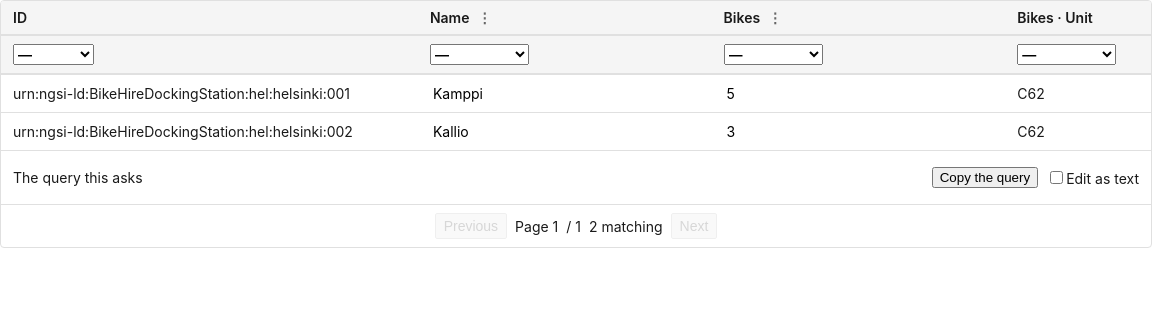
Test case: edit mode › discards every pending cell when the person asks
The width and height of the screenshot is (1152, 310).
Replace the text in the 1st number field showing "5" with "4" at (858, 94), box [724,83,993,104]
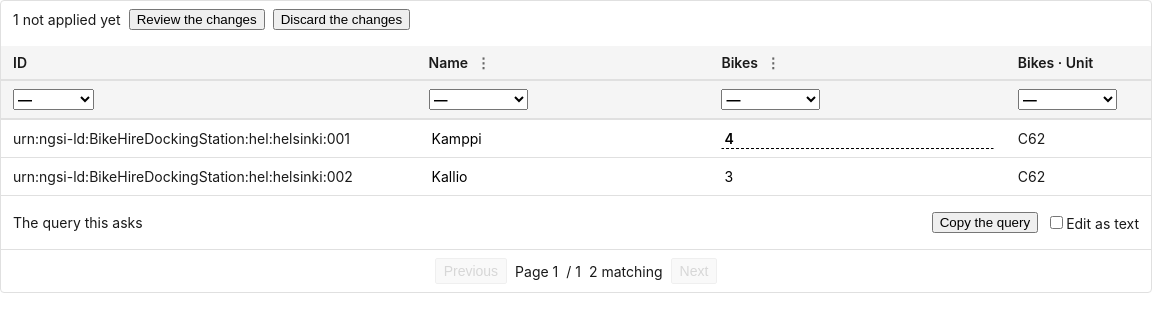
Click the button "Discard the changes".
click(341, 20)  # box [273,9,410,30]
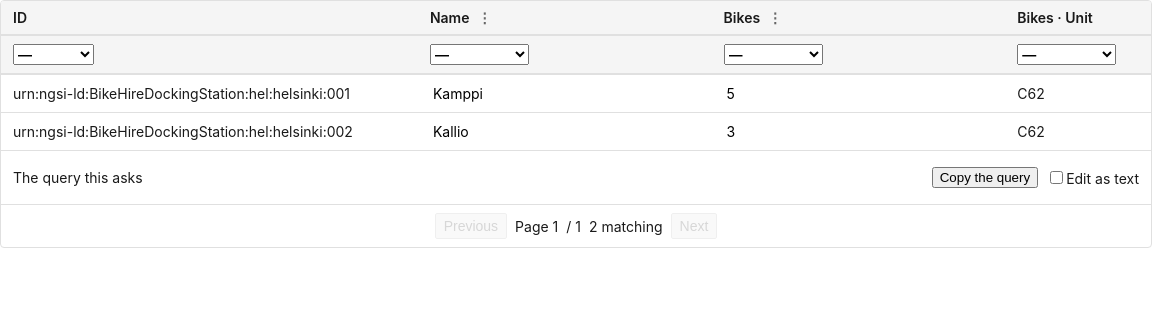
Expected: the 1st number field showing "5" is shown, [724,83,993,104]
